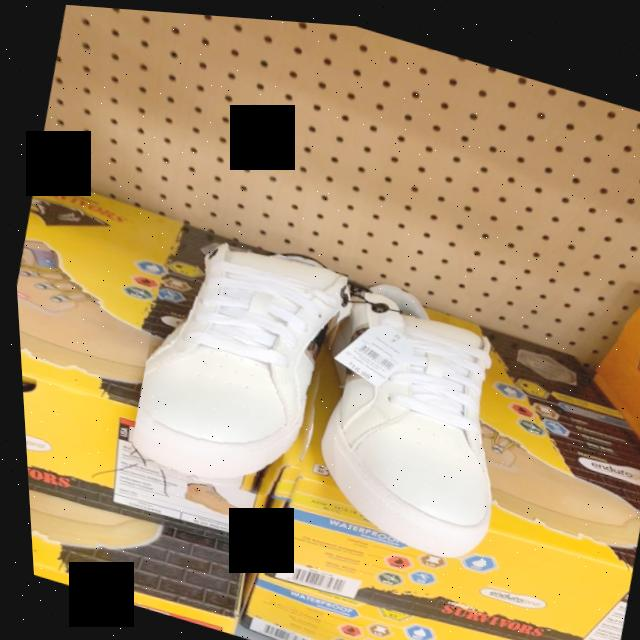shoe: (126, 243, 342, 479), (315, 298, 488, 552)
